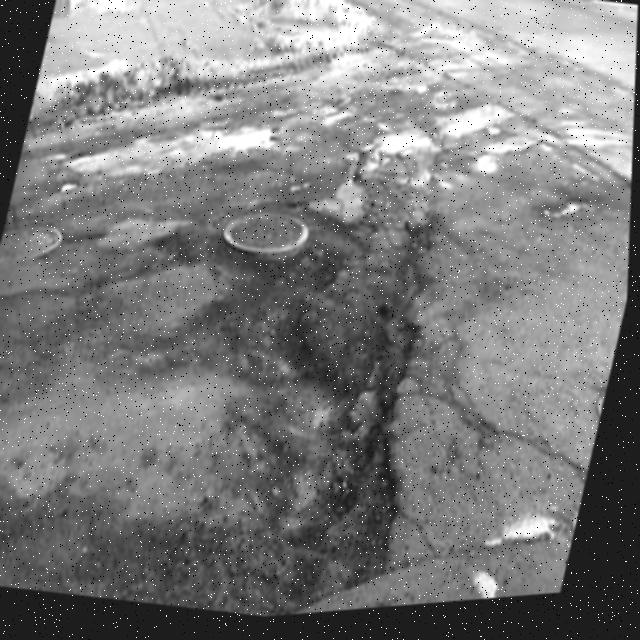Pothole: (0, 205, 458, 640), (182, 92, 290, 182)
